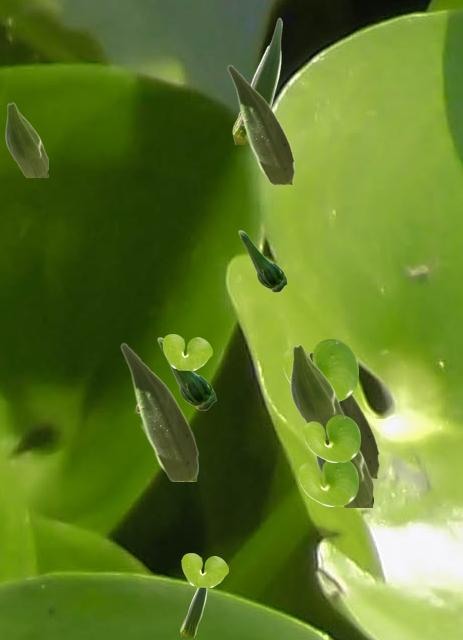okra: (120, 342, 197, 480), (309, 351, 378, 477), (227, 64, 293, 183), (232, 17, 281, 143), (290, 344, 343, 427), (157, 337, 215, 409), (315, 439, 372, 506), (5, 102, 47, 176), (238, 230, 286, 291), (180, 587, 206, 636)
